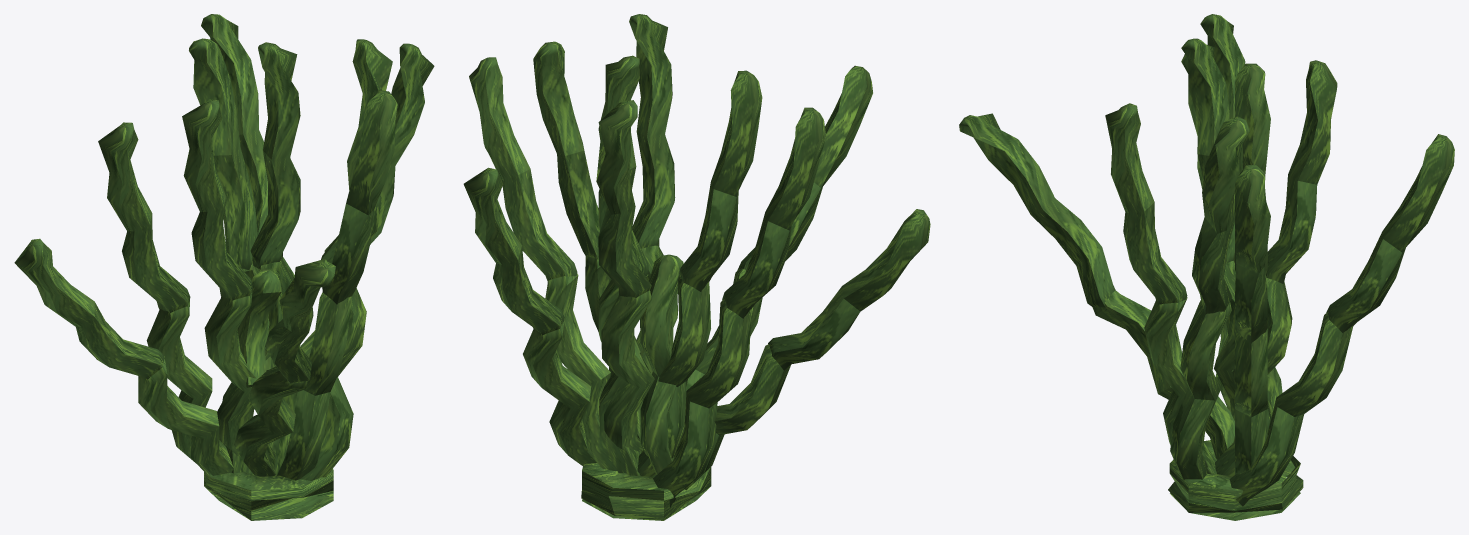
The model's file is multiple weed.fbx.
3 renders of one model, left to right at view 1: azimuth 30°, elevation 25°; view 2: azimuth 150°, elevation 25°; view 3: azimuth 270°, elevation 25°, orthographic. The views are drawn at different scales.
Parts seen in each view (by area): view 1: multiple_weed_9; view 2: multiple_weed_9; view 3: multiple_weed_9.
Part boxes in pixels (x1,y1,x2,y2): multiple_weed_9: (14, 14, 434, 520); multiple_weed_9: (463, 14, 930, 520); multiple_weed_9: (959, 14, 1454, 520).
Bounding box in the file's own units: 1955 × 1911 × 1965.
Materials: 1 (1 with a texture image).
